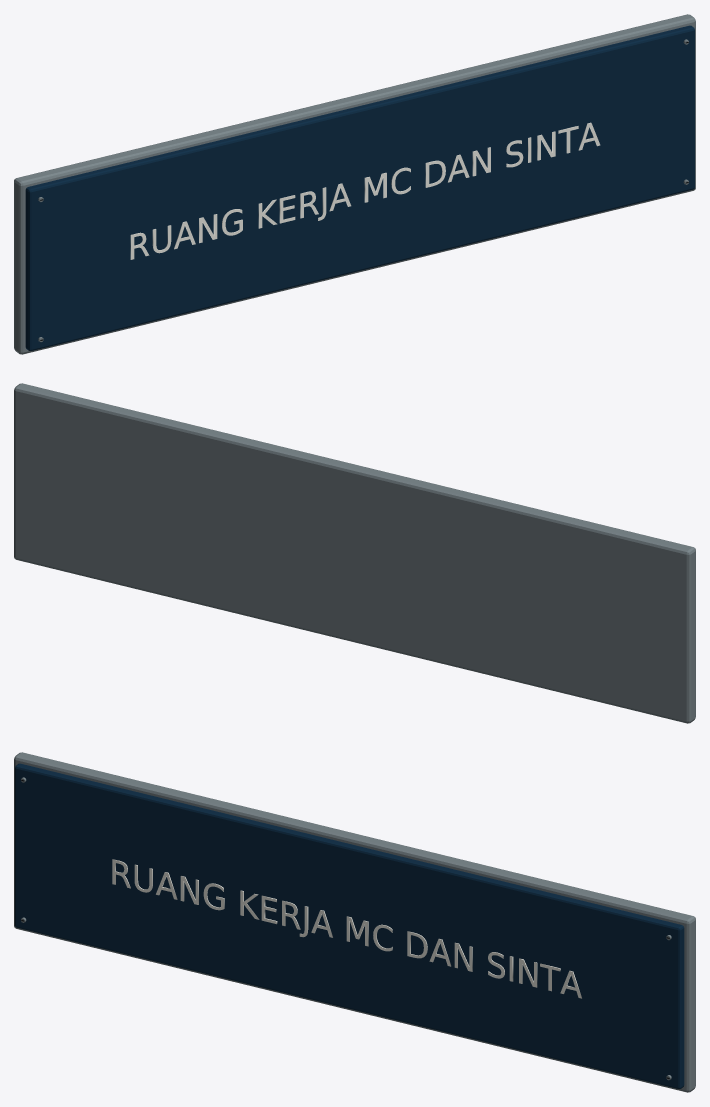
Rendered from OAA_Papan_Ruang_Ruang_Kerja_MC_dan_Sinta.fbx.
The picture shows the model from 3 angles, top to bottom: view 1: azimuth 30°, elevation 25°; view 2: azimuth 150°, elevation 25°; view 3: azimuth 330°, elevation 25°; orthographic projection.
Visible parts, largest first — view 1: Body; view 2: Body; view 3: Body.
Part boxes in pixels (<box>): Body: <box>14,14,695,354</box>; Body: <box>14,383,695,723</box>; Body: <box>14,752,695,1092</box>.
Bounding box in the file's own units: 0.9 × 0.22 × 0.0312.
